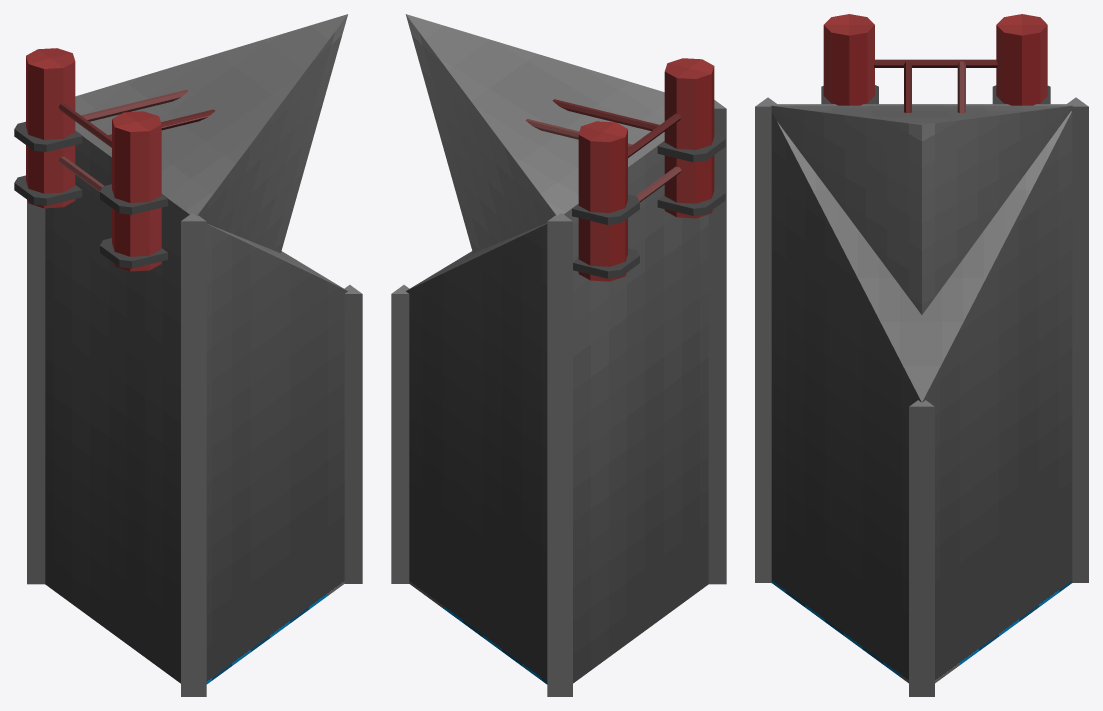
File: Tower.fbx
3 views of the same model, side by side, from view 1: azimuth 30°, elevation 25°; view 2: azimuth 150°, elevation 25°; view 3: azimuth 270°, elevation 25° (orthographic).
Visible parts, largest first — view 1: pasted__pCube5; view 2: pasted__pCube5; view 3: pasted__pCube5.
Part boxes in pixels (x1,y1,x2,y2): pasted__pCube5: (14,14,362,696); pasted__pCube5: (391,14,726,696); pasted__pCube5: (755,14,1088,696).
Size of the model in its own units: 12.72 by 24.42 by 13.
Materials: 1 (1 with a texture image).
